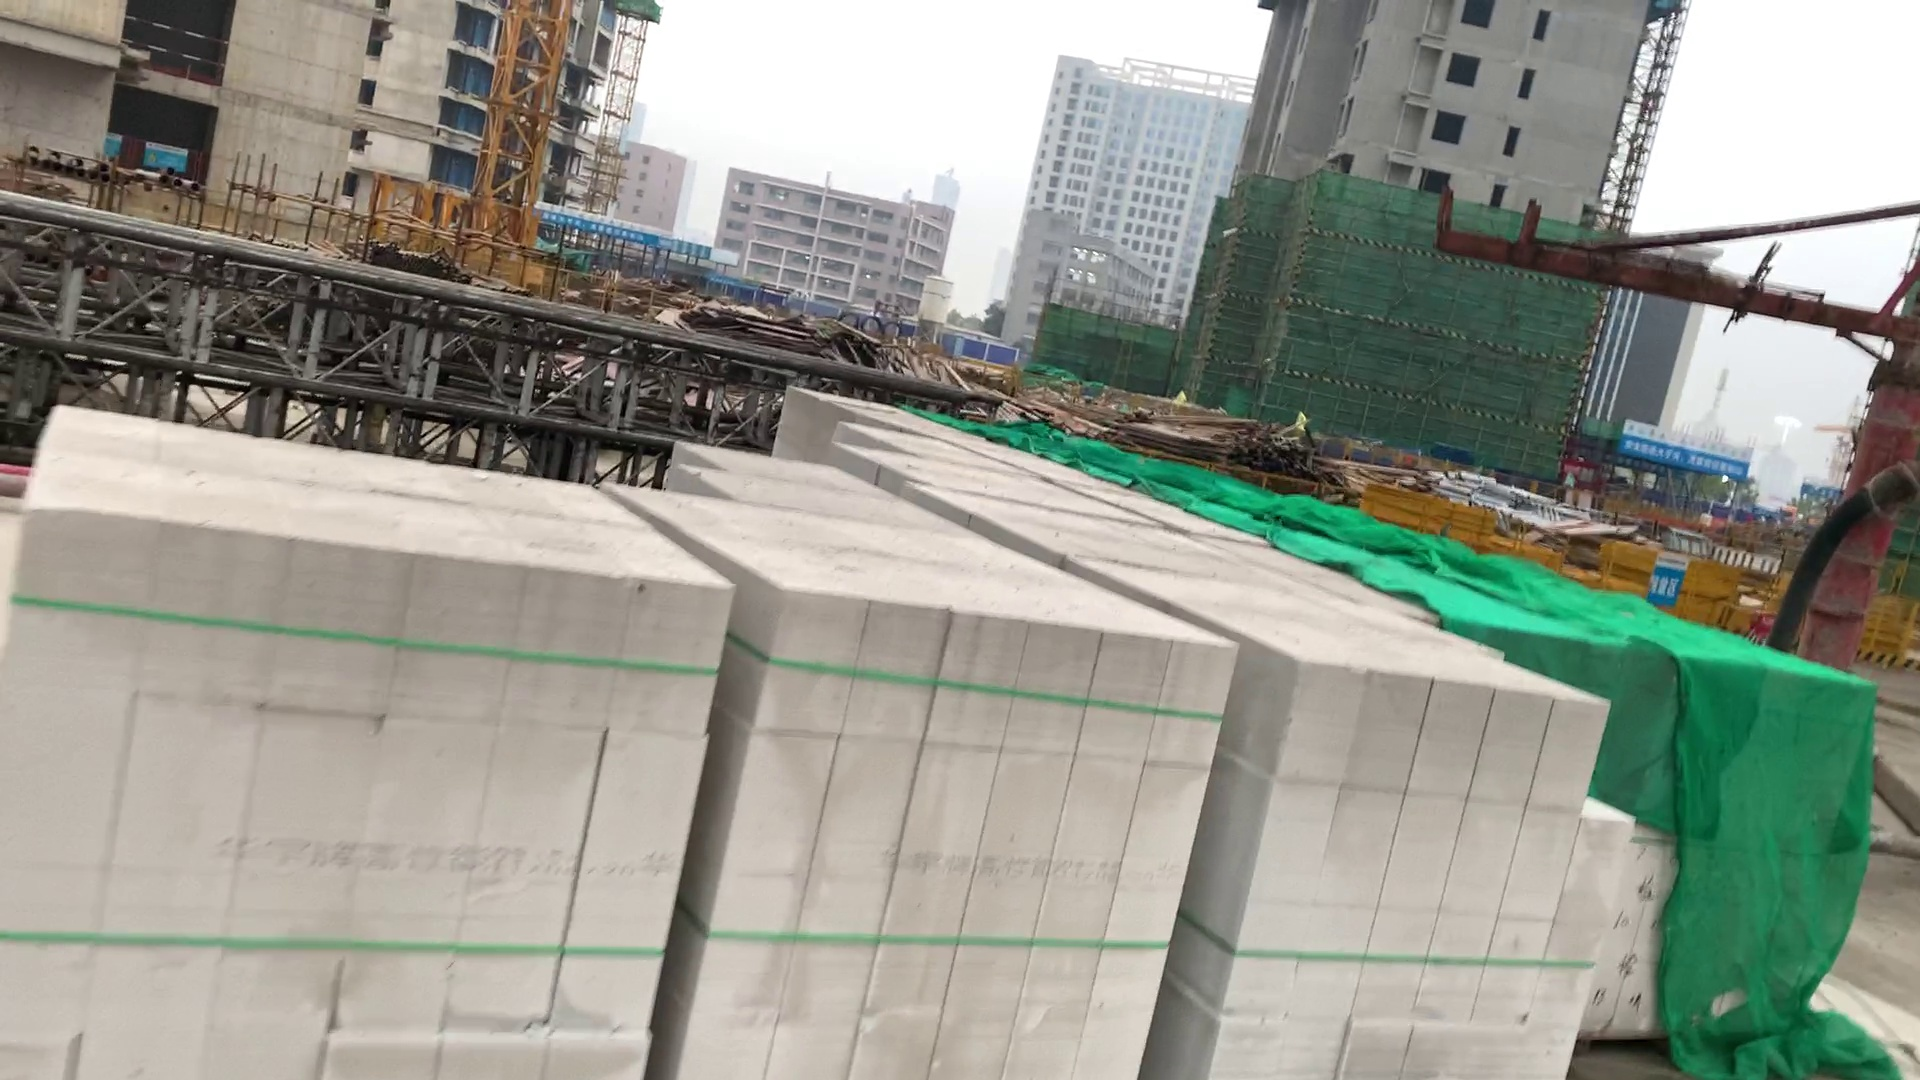brickwork: (7, 404, 735, 1080), (632, 493, 1211, 1080), (1240, 638, 1582, 1080), (1618, 825, 1807, 1036), (666, 442, 872, 508), (981, 514, 1211, 570), (923, 492, 1176, 534), (835, 425, 1033, 472), (885, 464, 1080, 502), (777, 389, 938, 433)
